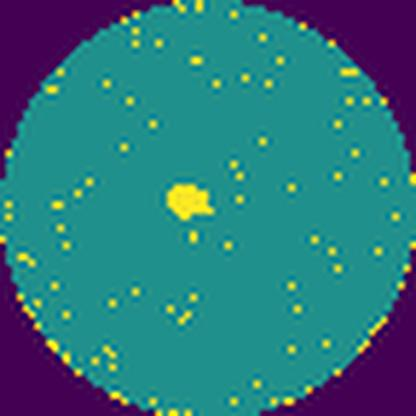Center: (164, 184, 216, 222)
